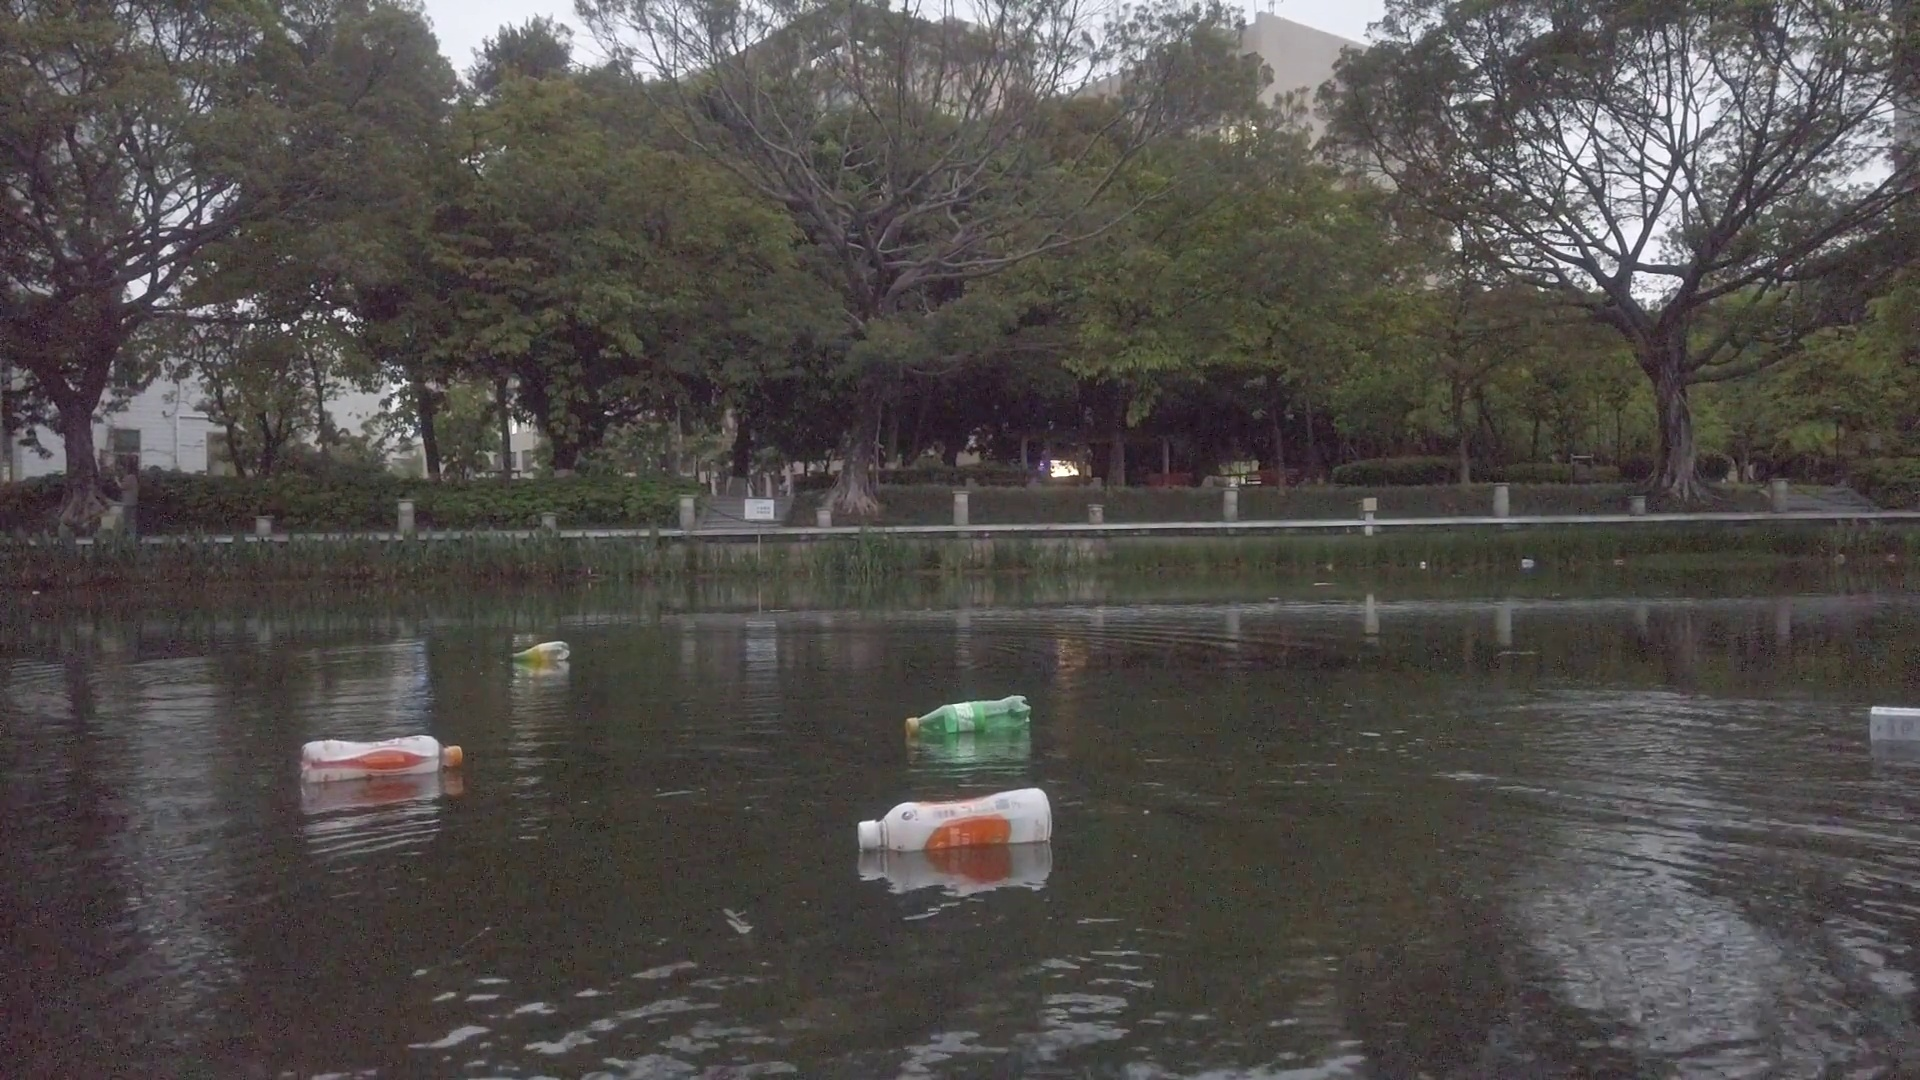bottle: (858, 791, 1058, 848), (302, 729, 462, 781), (905, 698, 1031, 735), (509, 637, 574, 665)
carton: (1871, 699, 1917, 744), (1523, 558, 1536, 568)
